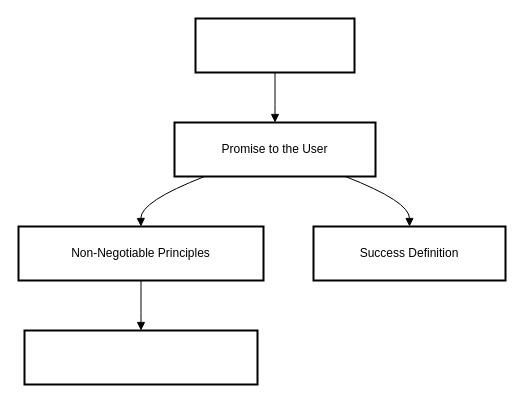
This 523x402 diagram has some shape labels left out. The box of each missing label's shape, as (x1, y1, x2, y2) in pixels:
Core Problem: (194, 17, 355, 73)
What This Will Never Be: (23, 329, 258, 385)
